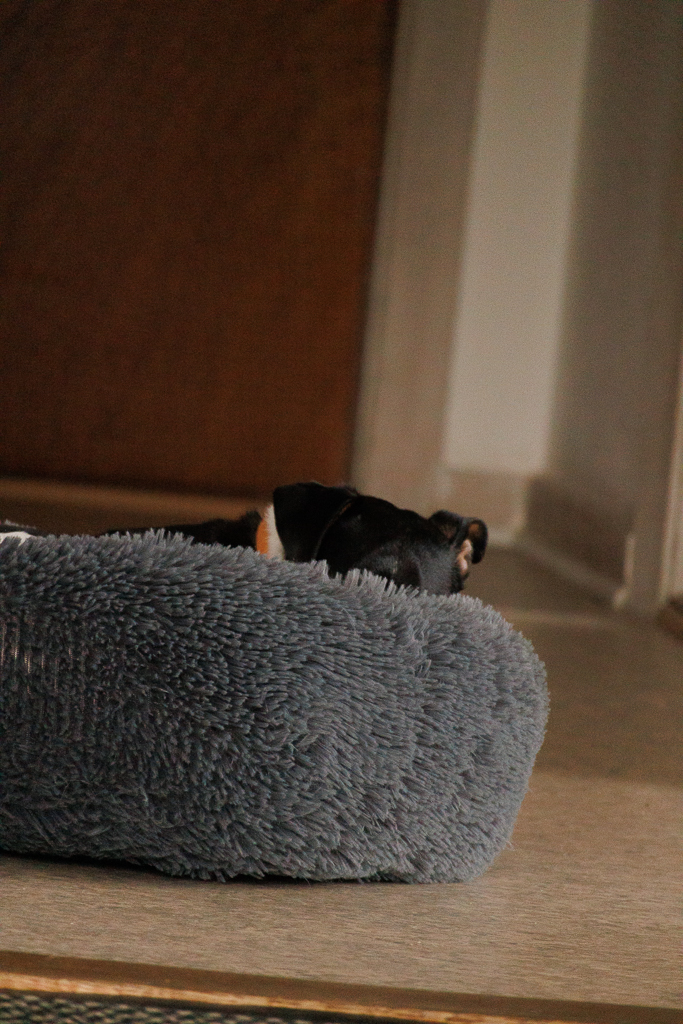Dog: (0, 472, 494, 612)
